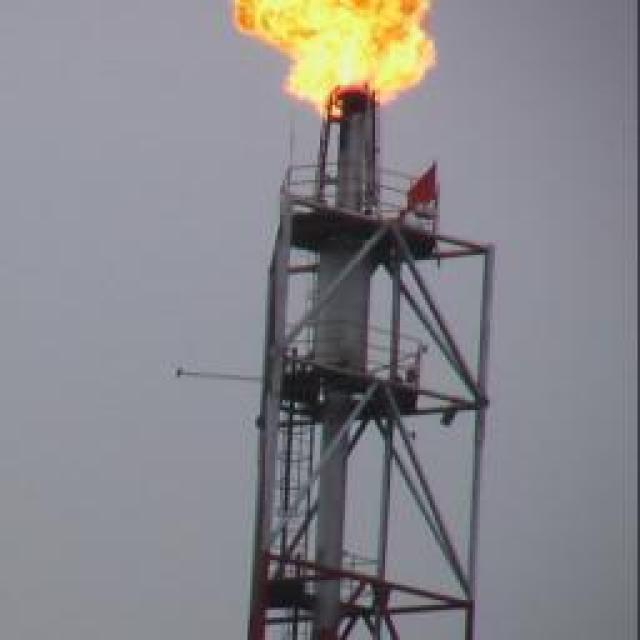fire: (232, 0, 436, 118)
